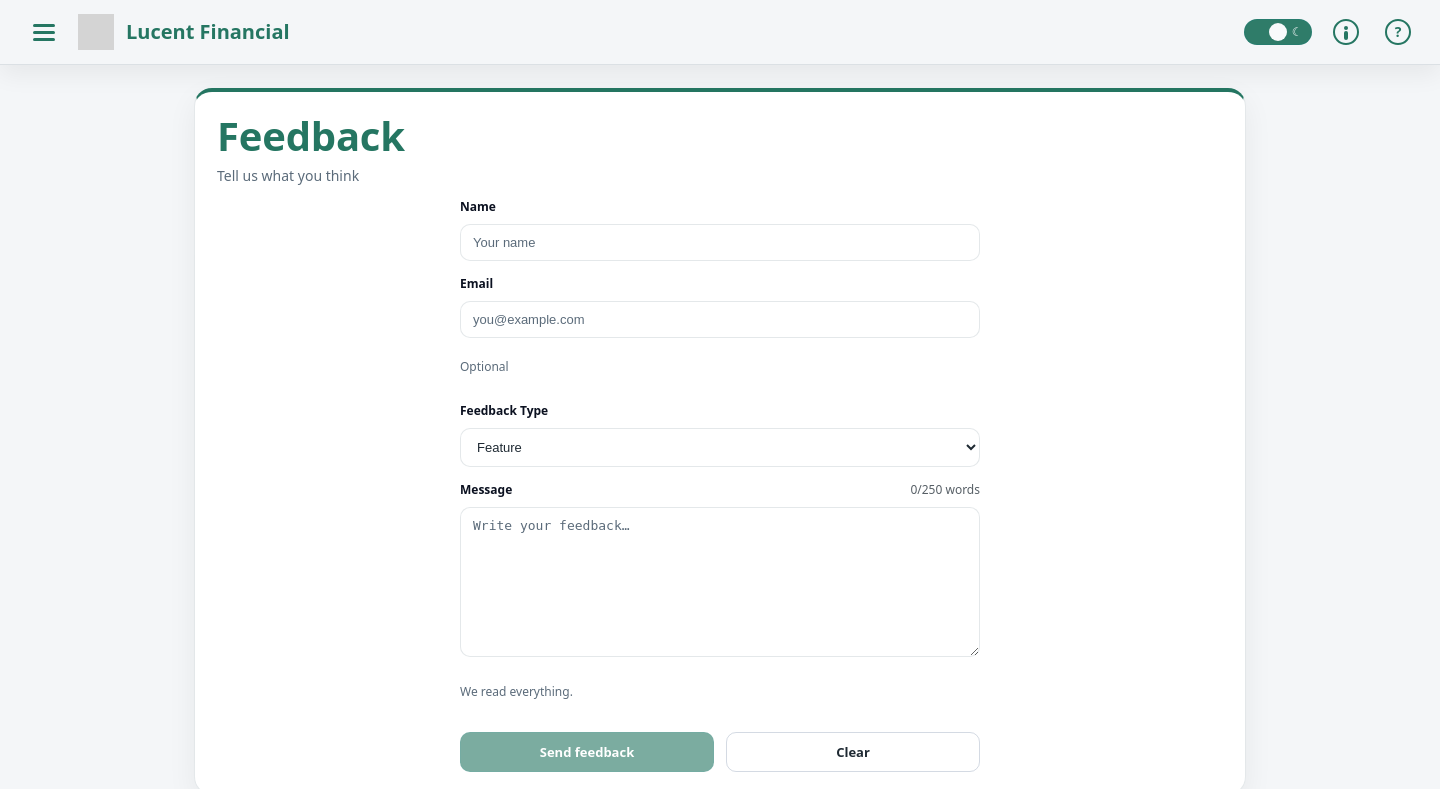
Test case: FeedbackPage › submits feedback successfully and shows success message
In the field labelled "Name": (720, 243) [460,224,980,261], type "Ericka"
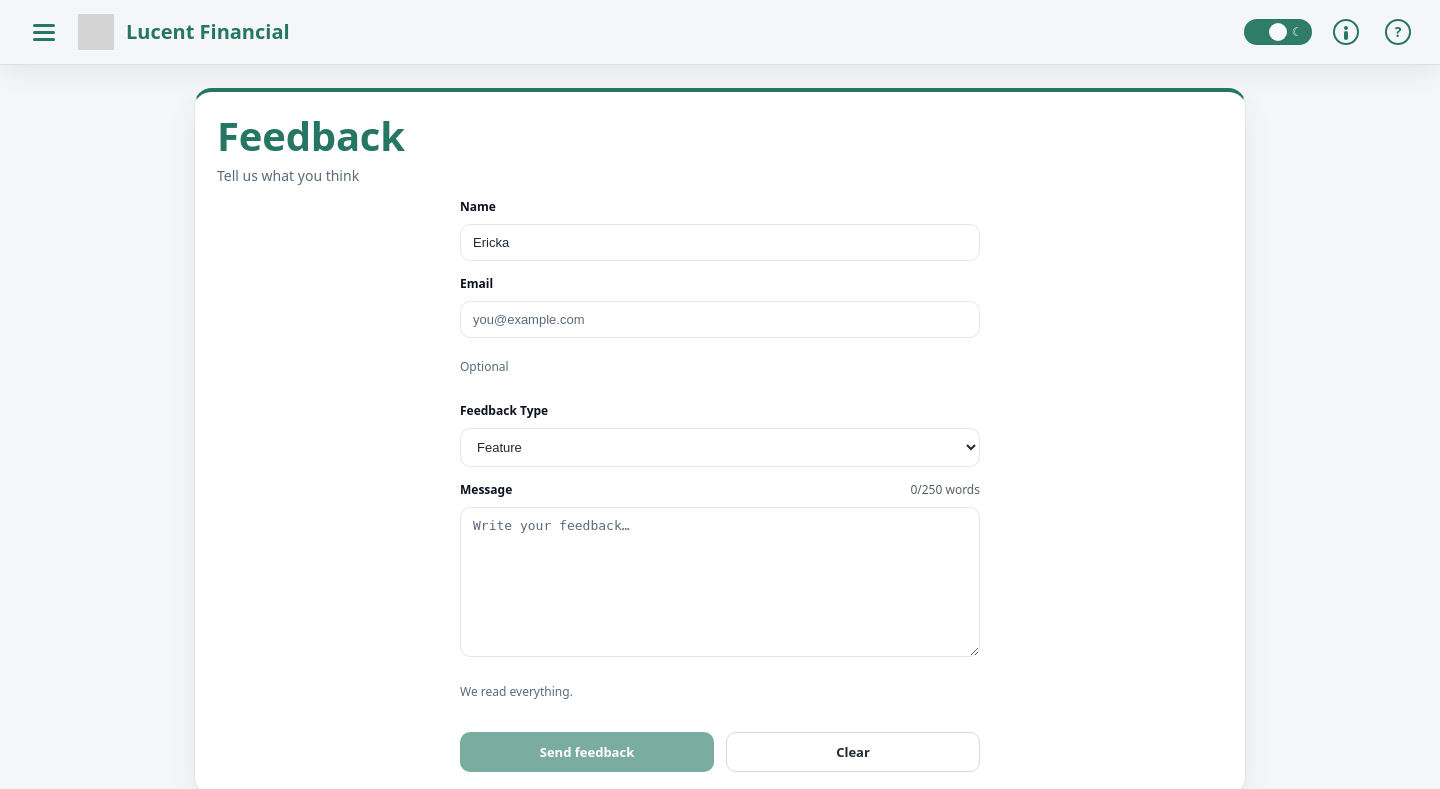
In the field labelled "Email": (720, 320) [460,301,980,338], type "ericka@example.com"
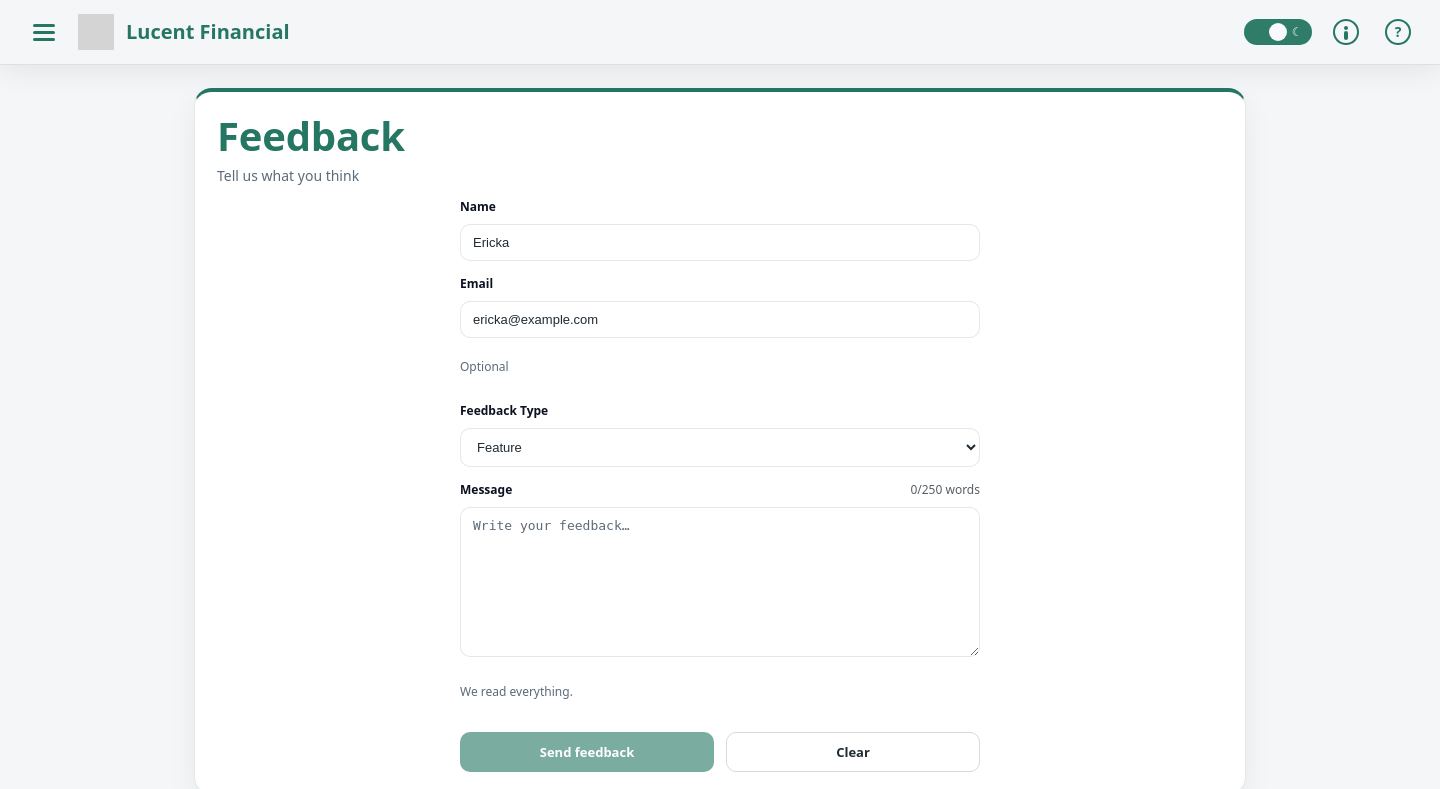
In the text box labelled "Message": (720, 582) [460,507,980,657], type "This dashboard is clean"
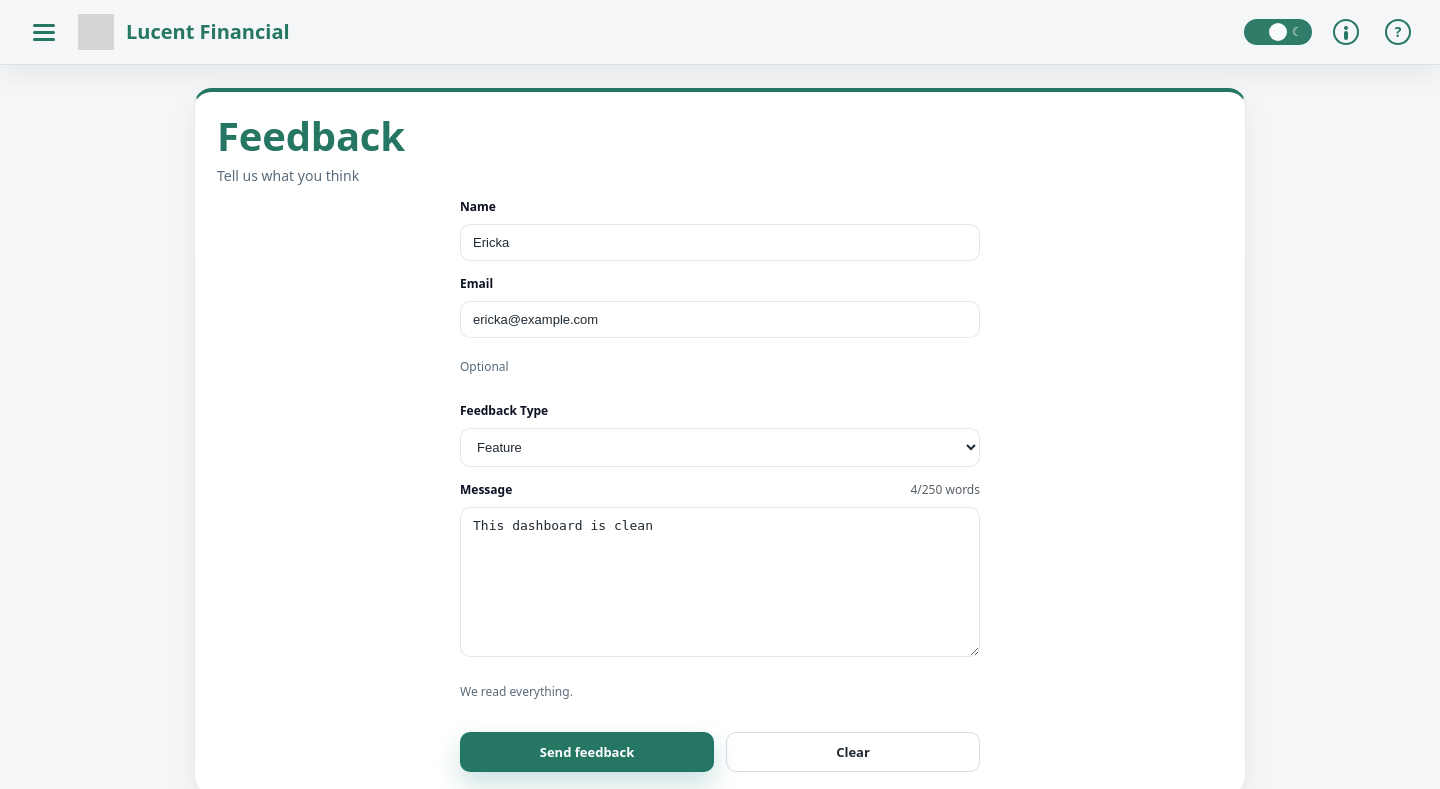
Result: the button "Send feedback" is enabled
Click the button "Send feedback": (587, 752) [460,732,714,772]
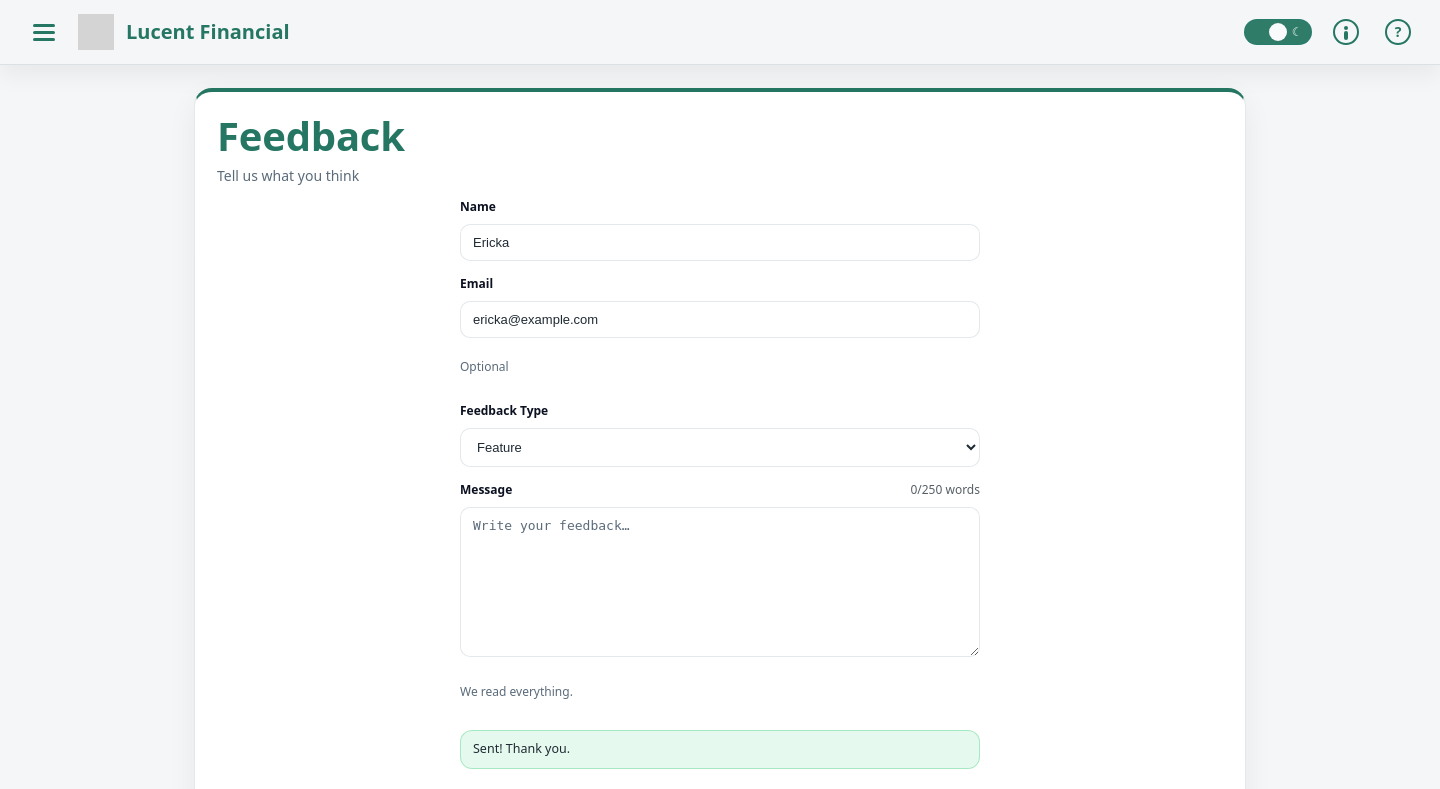
Result: the text "Sent! Thank you." is shown at [460,730,980,769]
